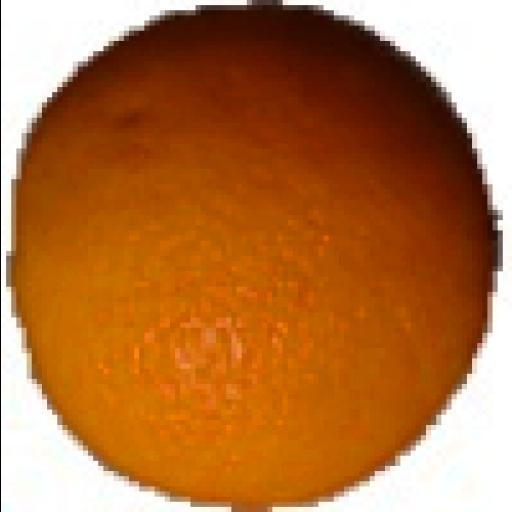orange: (12, 5, 492, 505)
